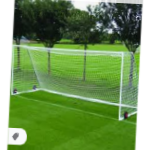goals: (12, 44, 138, 120)
